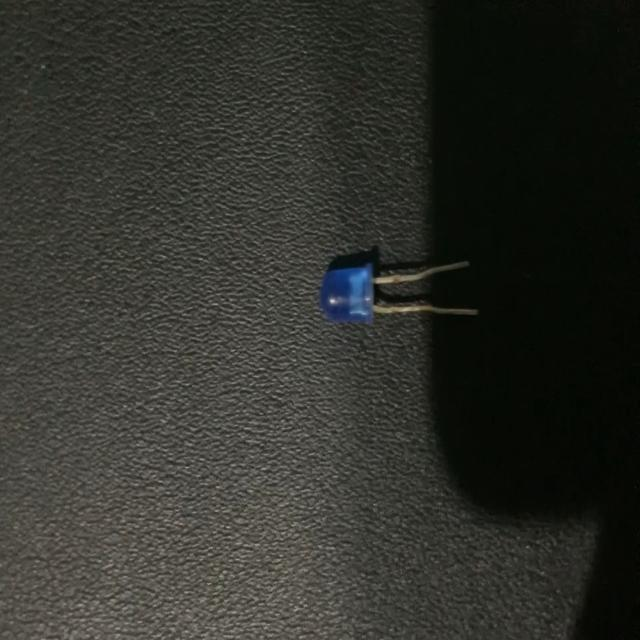LED: (316, 254, 482, 328)
